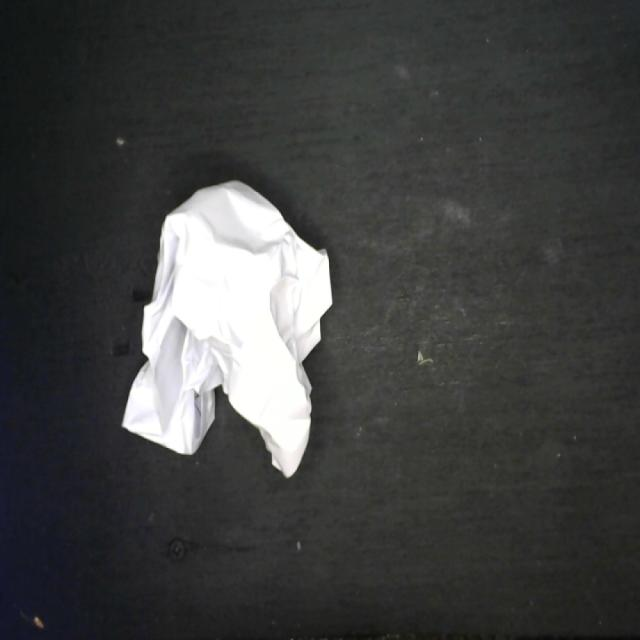biodegradable: (120, 173, 334, 482)
